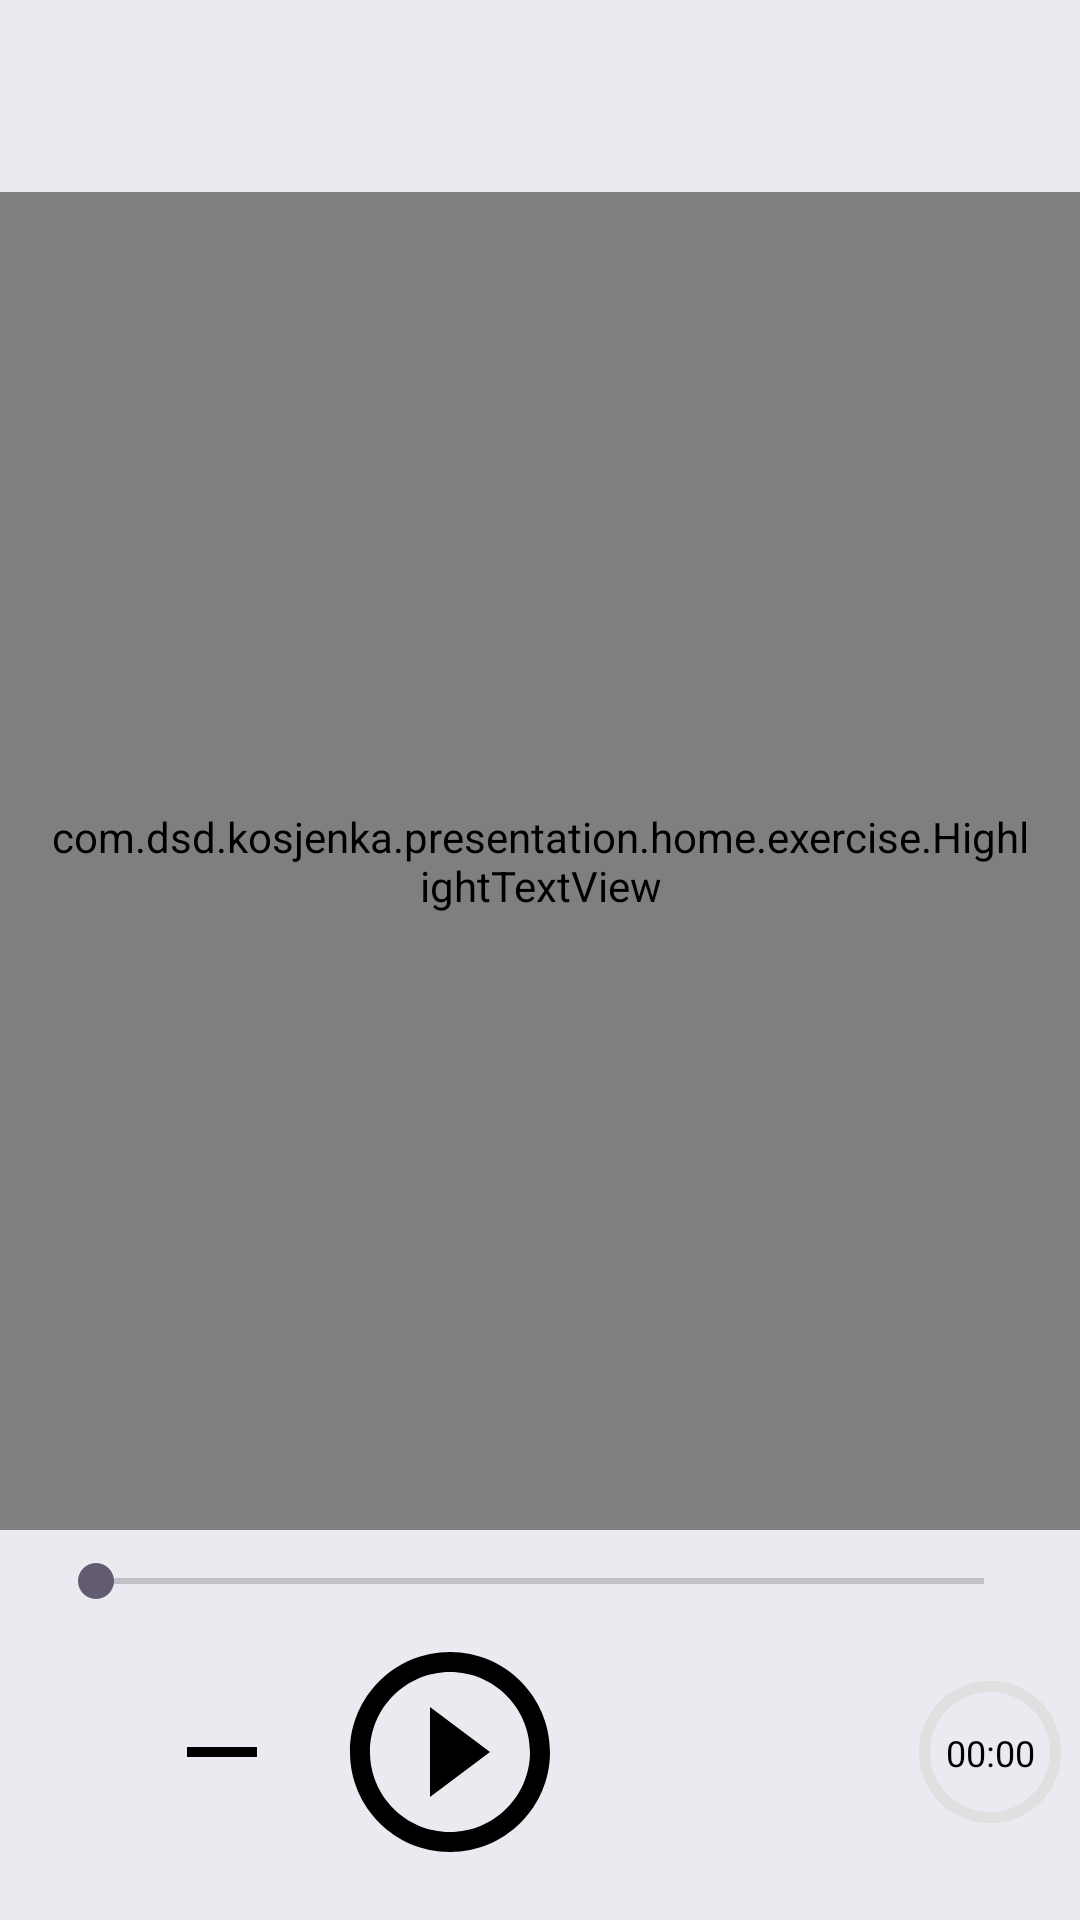

Where icons sit on this 1080*1920 app screen, as (x1, y1, x2, y2):
play: (349, 1652, 550, 1852)
